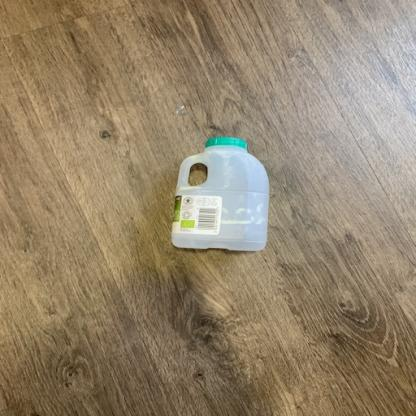trash: (169, 135, 273, 252)
